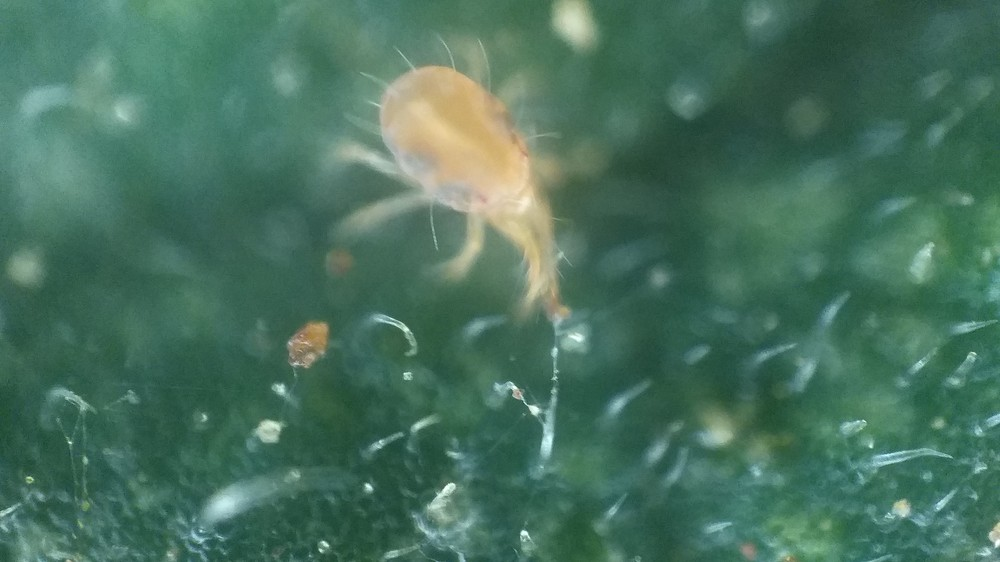Aracnido Rojo: (337, 42, 597, 350)
